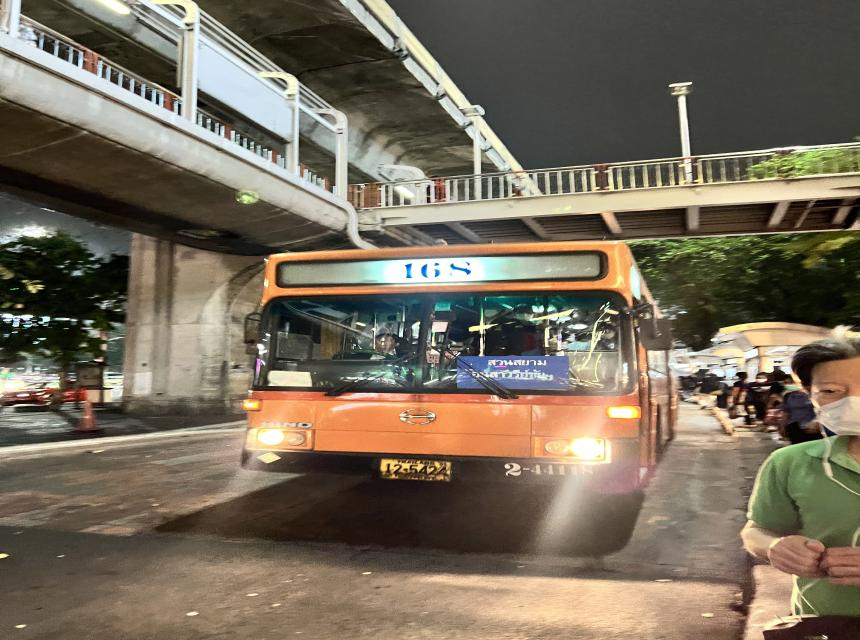BMTA-bus: (243, 241, 676, 494)
Bus Line Number: (389, 255, 483, 281)
Bus Side Number: (496, 461, 597, 484)
Destination Sign: (455, 357, 574, 392)
